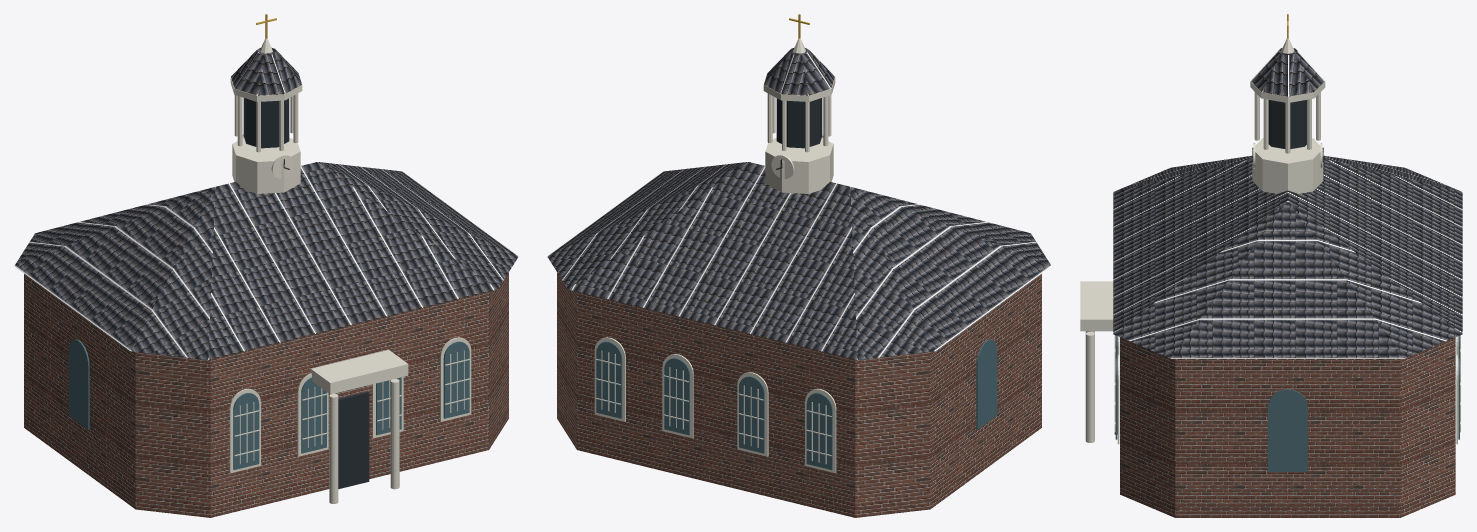
3 views of the same model, side by side, from view 1: azimuth 30°, elevation 25°; view 2: azimuth 150°, elevation 25°; view 3: azimuth 270°, elevation 25° (orthographic).
Parts seen in each view (by area): view 1: Uithoorn_thamerkerk; view 2: Uithoorn_thamerkerk; view 3: Uithoorn_thamerkerk.
Part boxes in pixels (x1=…): Uithoorn_thamerkerk: x1=14, y1=14, x2=518, y2=517; Uithoorn_thamerkerk: x1=547, y1=14, x2=1051, y2=517; Uithoorn_thamerkerk: x1=1080, y1=14, x2=1462, y2=517.
Size of the model in its own units: 22.88 by 23 by 19.34.
Materials: 6 (2 with a texture image).
